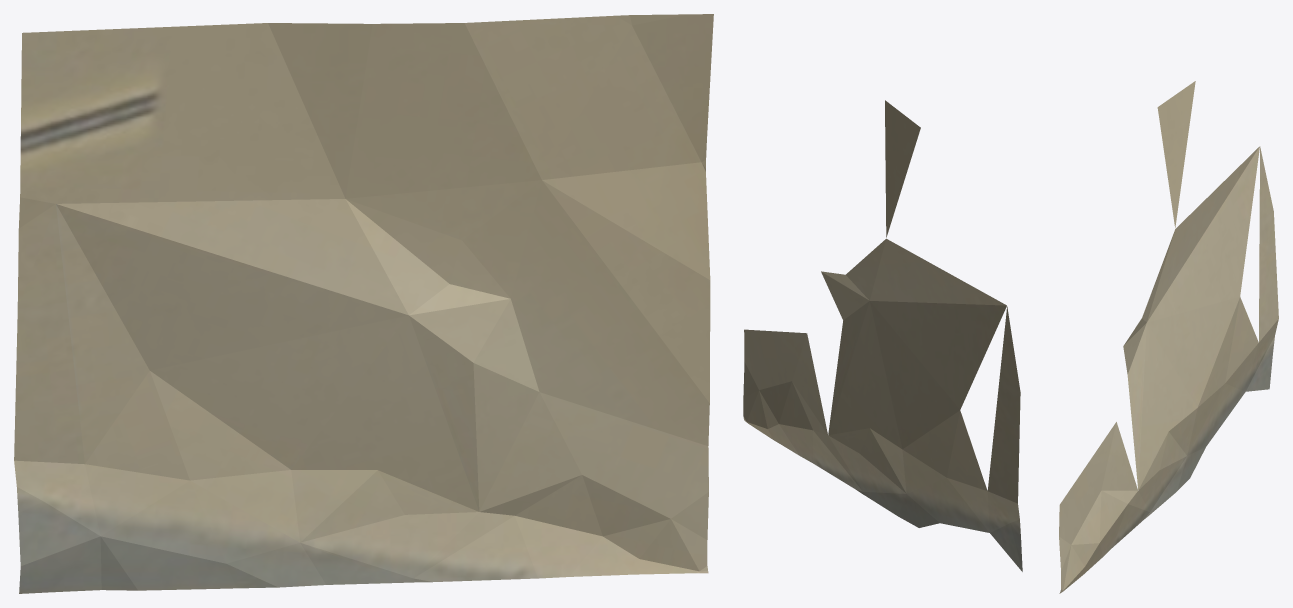
3 views of the same model, side by side, from view 1: azimuth 30°, elevation 25°; view 2: azimuth 150°, elevation 25°; view 3: azimuth 270°, elevation 25° (orthographic). The views are drawn at different scales.
Bounding box in the file's own units: 0.8374 × 0.8374 × 0.4354.
3 materials, 3 textured.
